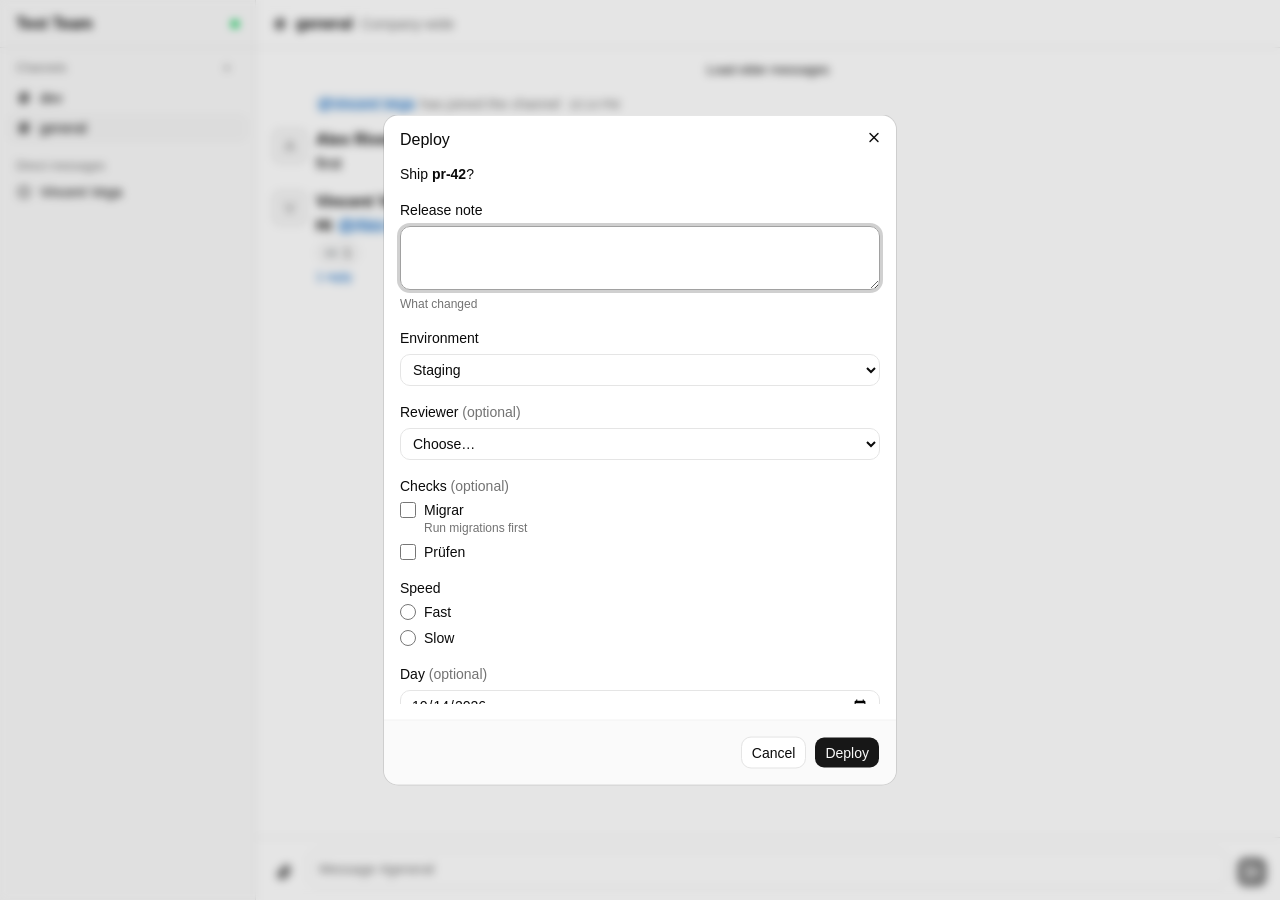
Test case: a modal an app opened › says when the app can't be reached, keeping what was typed
The image size is (1280, 900).
Type "x" into the text box labelled "Release note".
click(640, 258); type("x")  # box top-left (400, 226), bottom-right (880, 290)
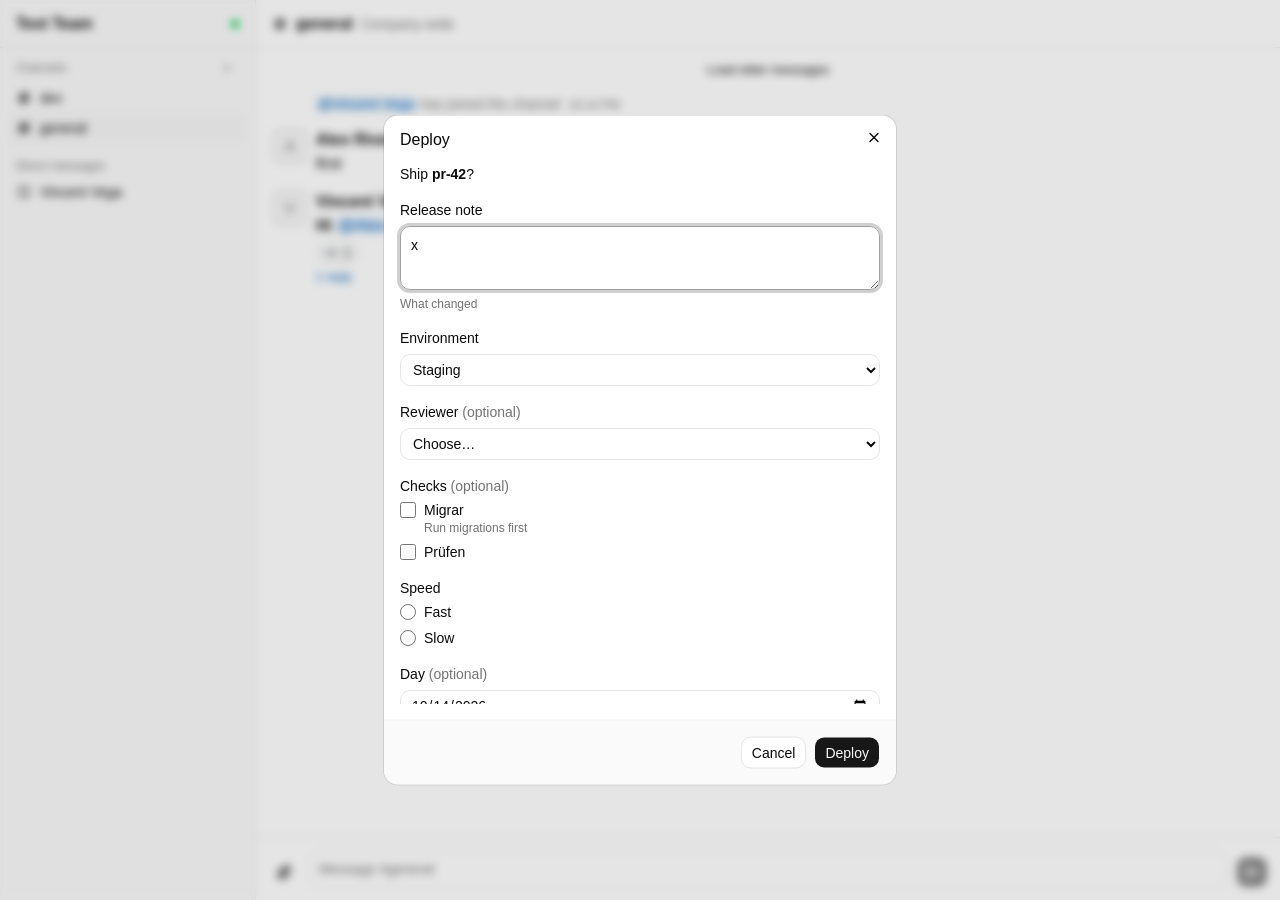
Click the button "Deploy".
click(847, 752)  # box top-left (814, 736), bottom-right (880, 768)
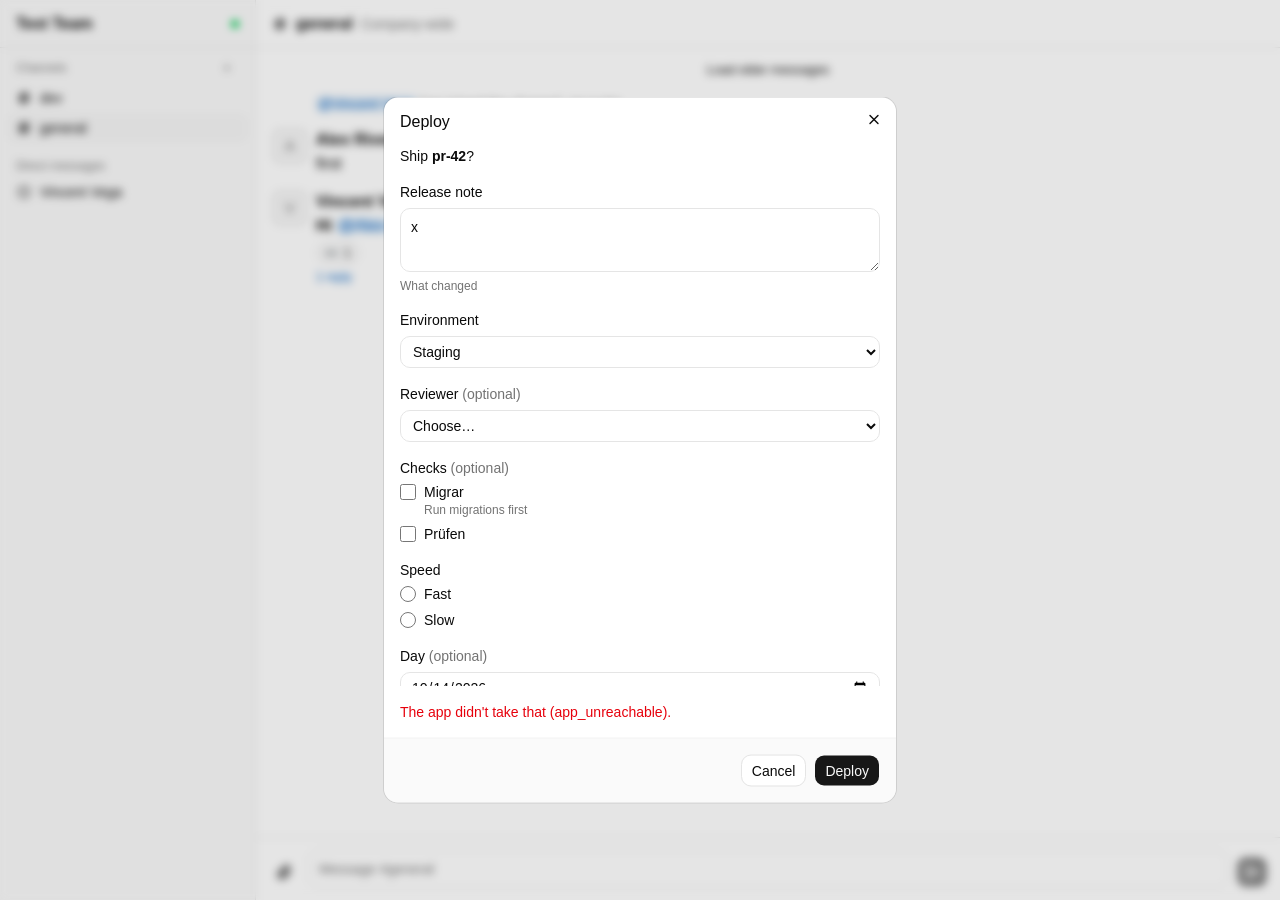
expect the message reads "The app didn't take that (app_unreachable).": met, box top-left (400, 704), bottom-right (671, 720)
